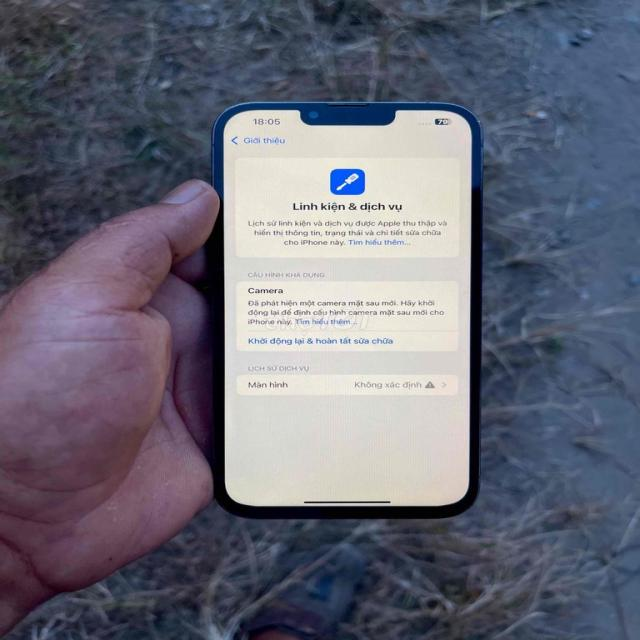gen_12_13: (205, 93, 484, 523)
